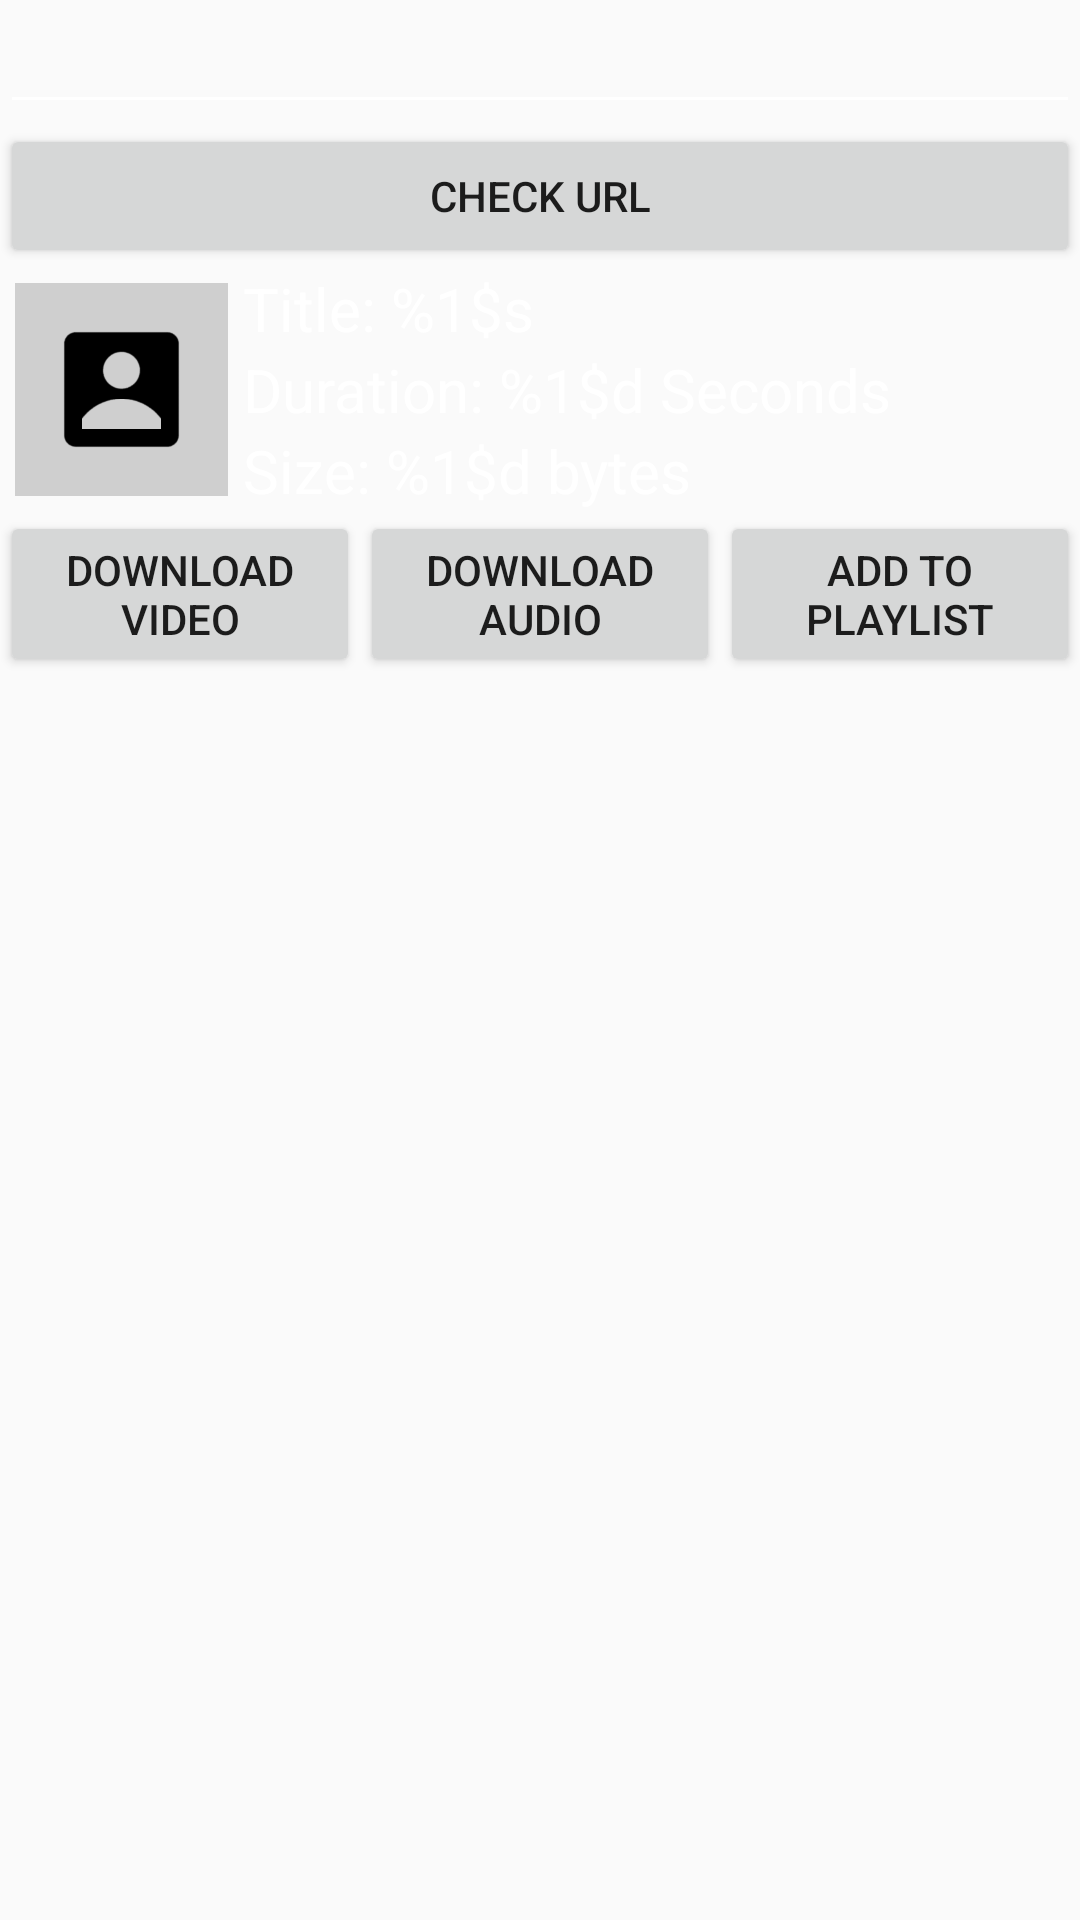

Point at icon controls on the screen. Image size 1080 × 1920, points as [x,y].
artwork unset: [121,389]
